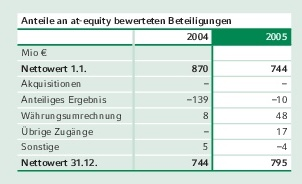table: (0, 0, 302, 184)
